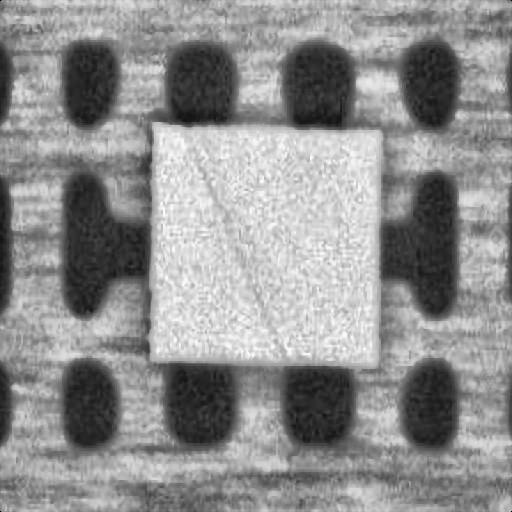DIE_CRACK: (182, 138, 280, 345)
